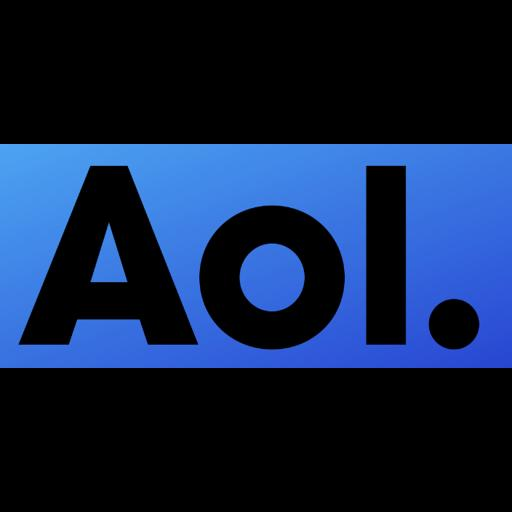AOL: (0, 144, 512, 368)
